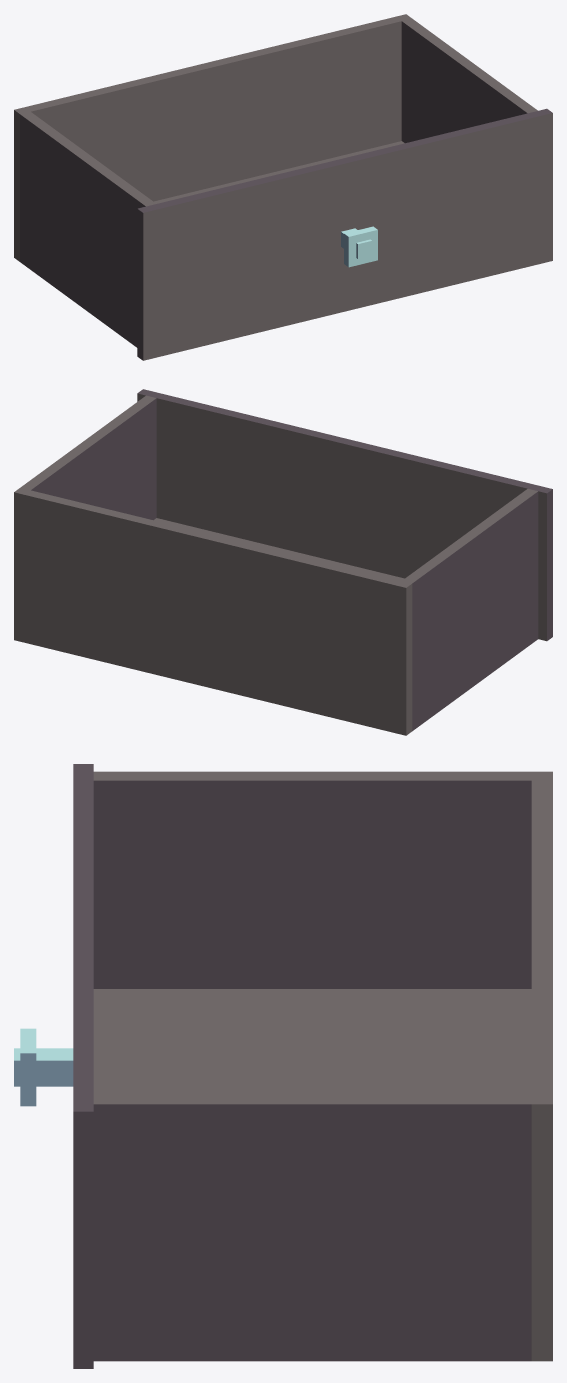
The model's file is Drawer Top.fbx.
3 views of the same model, one above another, from view 1: azimuth 30°, elevation 25°; view 2: azimuth 150°, elevation 25°; view 3: azimuth 270°, elevation 25° (orthographic). The views are drawn at different scales.
Parts seen in each view (by area): view 1: Drawer Top; view 2: Drawer Top; view 3: Drawer Top.
Part boxes in pixels (<box>): Drawer Top: <box>14,14,552,360</box>; Drawer Top: <box>14,389,552,735</box>; Drawer Top: <box>14,764,552,1368</box>.
Size of the model in its own units: 189 by 65.04 by 124.
